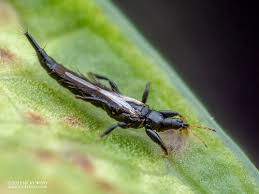Phlaeothripidae: (20, 26, 217, 157)
